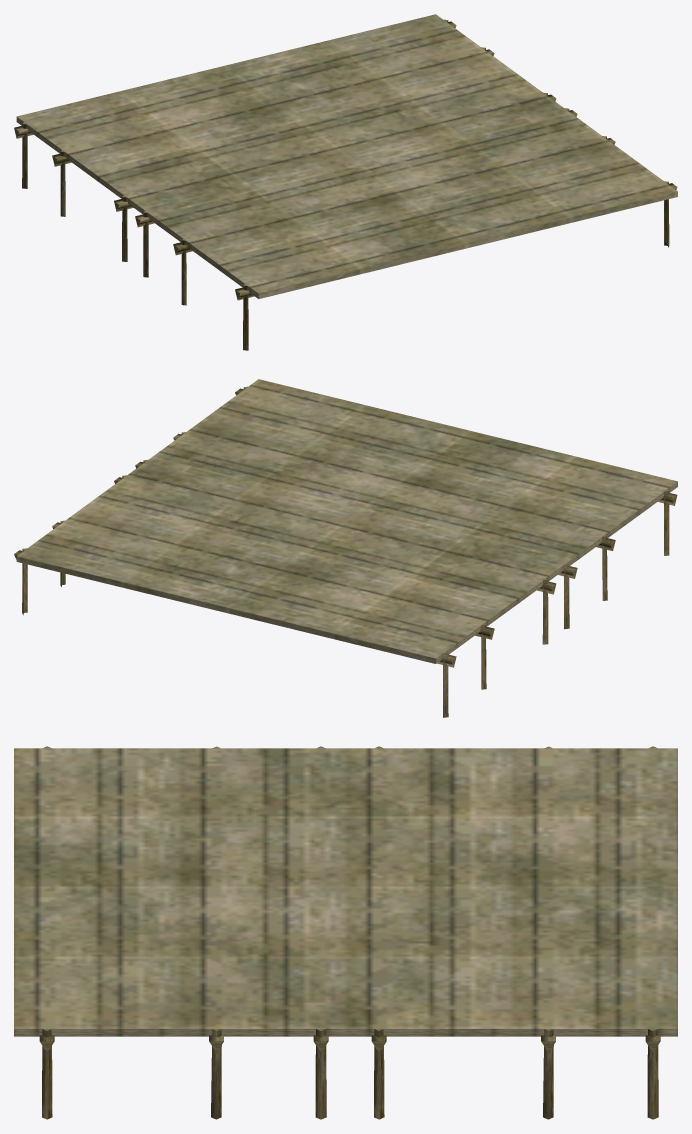
The model's file is thm_endr_lakevillage_lake_hut_pc1_l2.fbx.
The picture shows the model from 3 angles, top to bottom: view 1: azimuth 30°, elevation 25°; view 2: azimuth 150°, elevation 25°; view 3: azimuth 270°, elevation 25°; orthographic projection. The views are drawn at different scales.
Visible parts, largest first — view 1: mesh_node; view 2: mesh_node; view 3: mesh_node.
Part boxes in pixels (left/top/right/bottom): mesh_node: left=14, top=14, right=677, bottom=350; mesh_node: left=14, top=379, right=677, bottom=717; mesh_node: left=14, top=746, right=677, bottom=1119.
Size of the model in its own units: 16.68 by 2.35 by 16.
